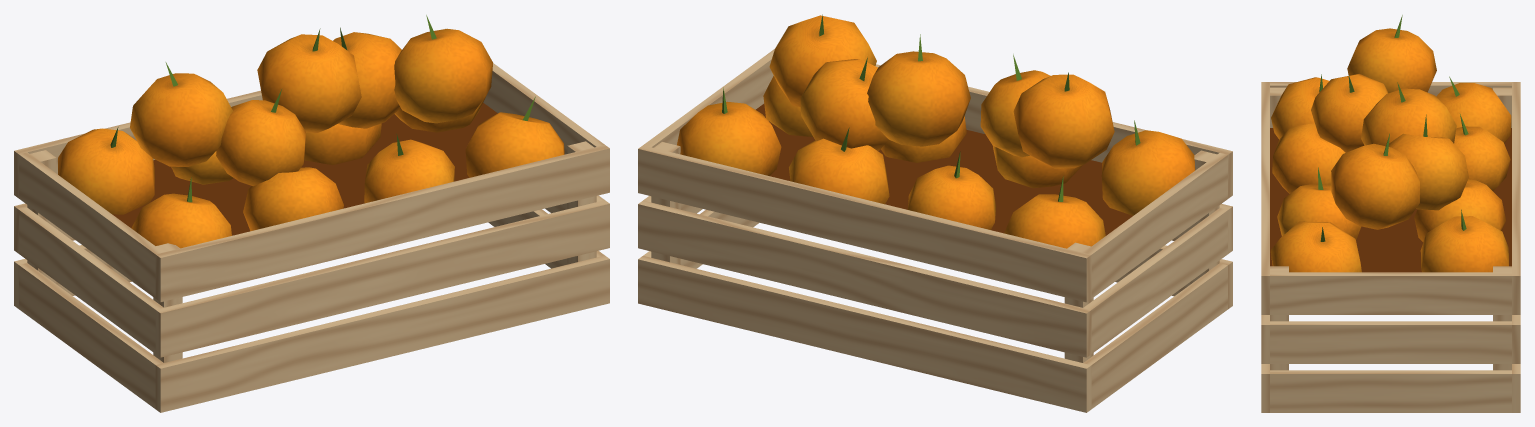
Rendered from Prop_FruitCrate_Orange.fbx.
3 views of the same model, side by side, from view 1: azimuth 30°, elevation 25°; view 2: azimuth 150°, elevation 25°; view 3: azimuth 270°, elevation 25° (orthographic). The views are drawn at different scales.
Visible parts, largest first — view 1: Prop_FruitCrate_Orange_LOD0; view 2: Prop_FruitCrate_Orange_LOD0; view 3: Prop_FruitCrate_Orange_LOD0.
Part boxes in pixels (x1,y1,x2,y2): Prop_FruitCrate_Orange_LOD0: (14,15,609,412); Prop_FruitCrate_Orange_LOD0: (638,14,1232,412); Prop_FruitCrate_Orange_LOD0: (1261,15,1520,412).
Size of what is drawn, in the model's own units: 0.85 by 0.4936 by 0.48.
1 material, 1 textured.
